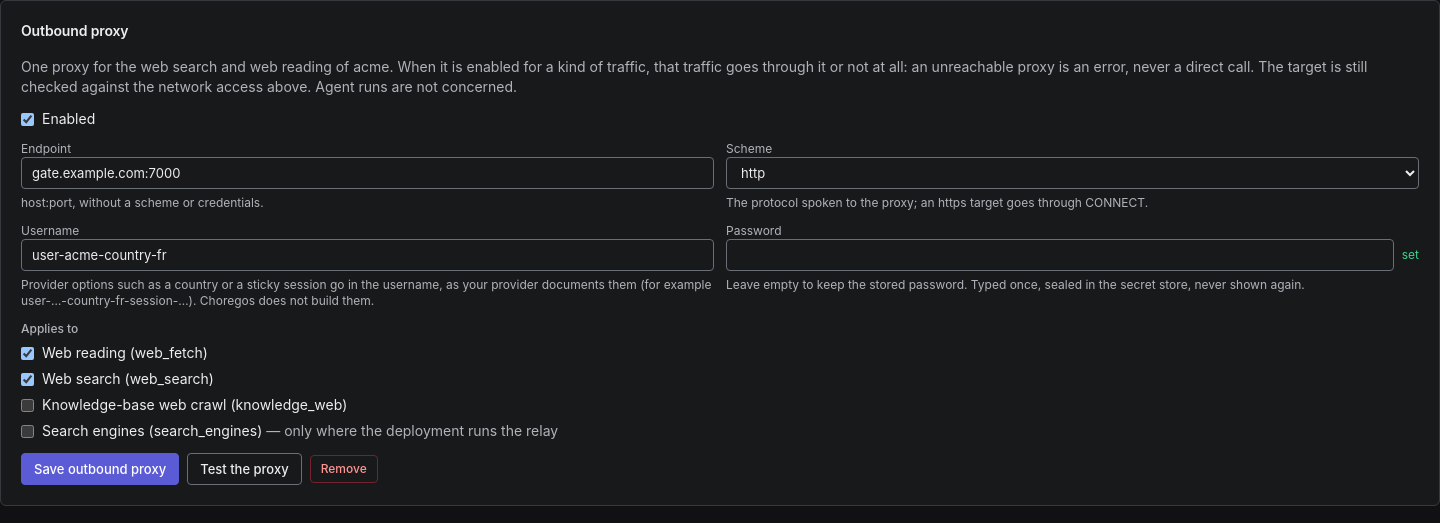
Scenario: the organisation's outbound proxy (ADR 0087) › flags a bad endpoint and keeps Save disabled until it is host:port
Type "https://gate.example.com:7000" into the field labelled "Endpoint". click: x=368, y=173
box: [21, 157, 714, 189]
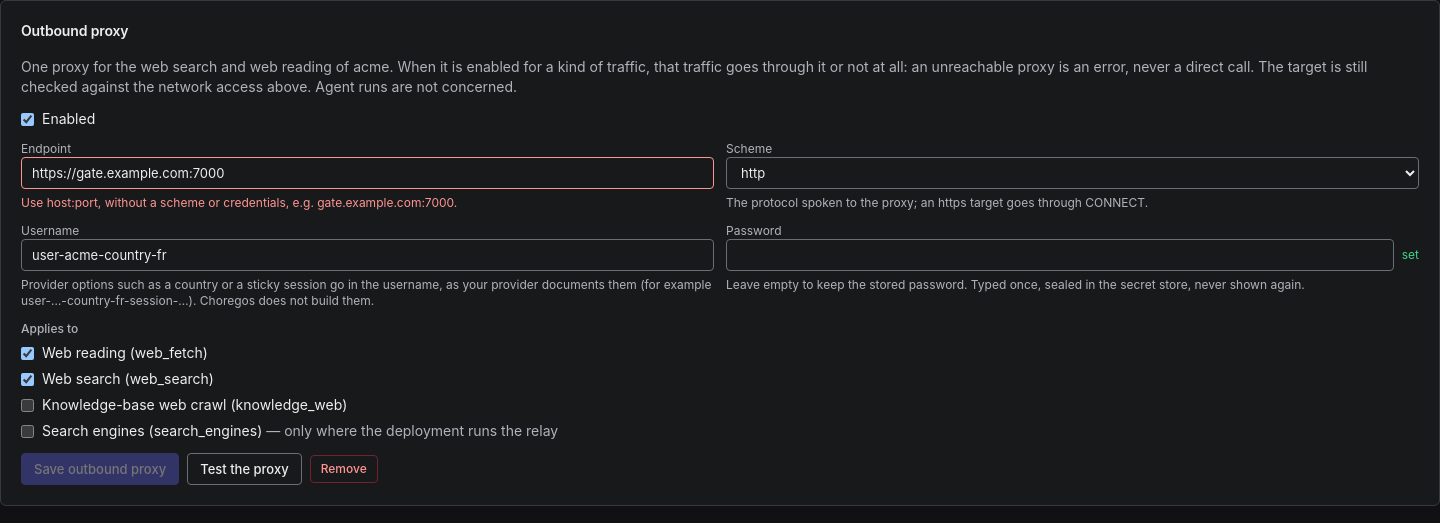
Result: the button "Save outbound proxy" is disabled at [21, 453, 179, 485]
Replace the text in the field labelled "Endpoint" with "user:pw@gate.example.com:7000". click: x=368, y=173
box: [21, 157, 714, 189]
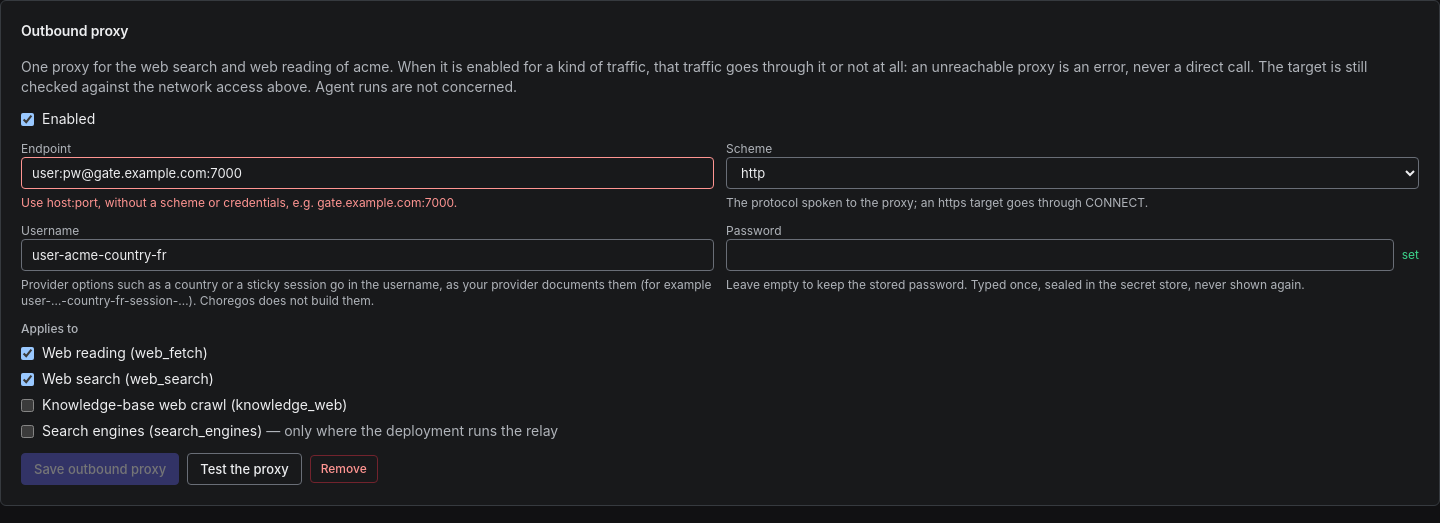
Result: the button "Save outbound proxy" is disabled at [21, 453, 179, 485]
Replace the text in the field labelled "Endpoint" with "gate.example.com". click: x=368, y=173
box: [21, 157, 714, 189]
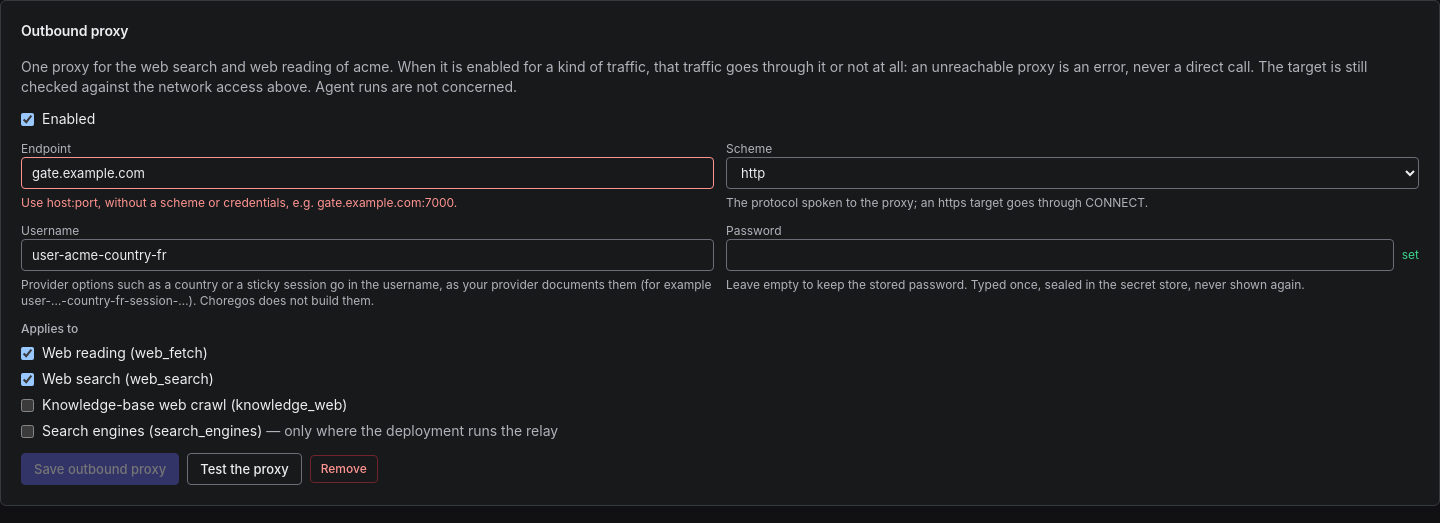
Result: the button "Save outbound proxy" is disabled at [21, 453, 179, 485]
Replace the text in the field labelled "Endpoint" with "gate.example.com:70000". click: x=368, y=173
box: [21, 157, 714, 189]
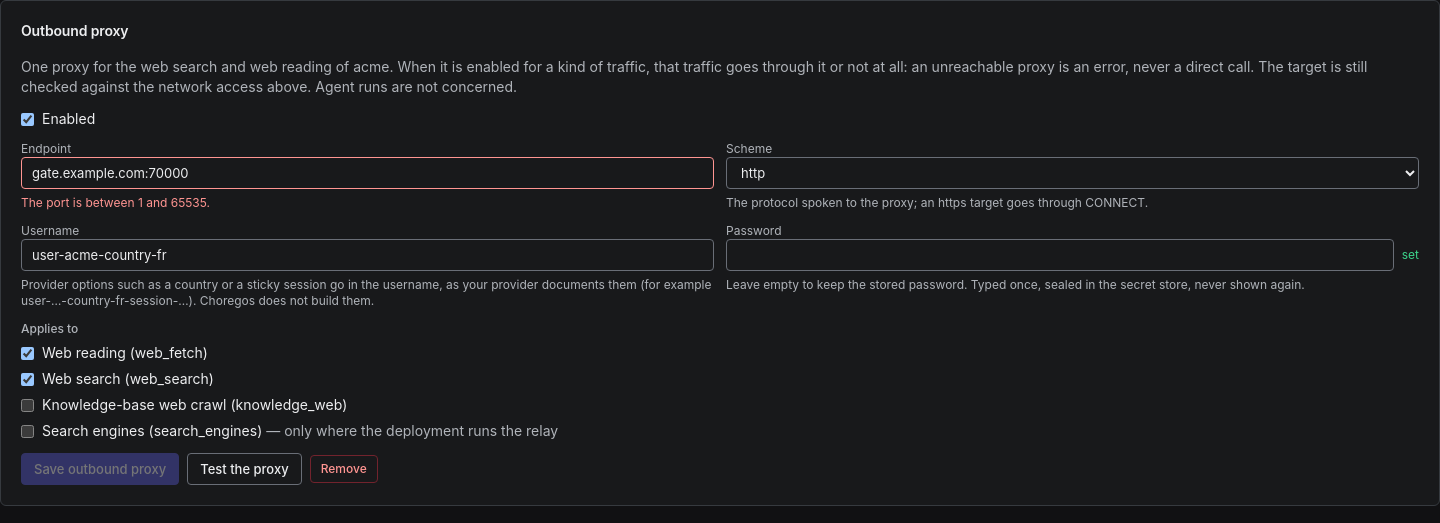
Expected: the text "The port is between 1 and 65535." is shown, [21, 195, 210, 210]
Result: the button "Save outbound proxy" is disabled at [21, 453, 179, 485]
Replace the text in the field labelled "Endpoint" with "gate.example.com:7000". click: x=368, y=173
box: [21, 157, 714, 189]
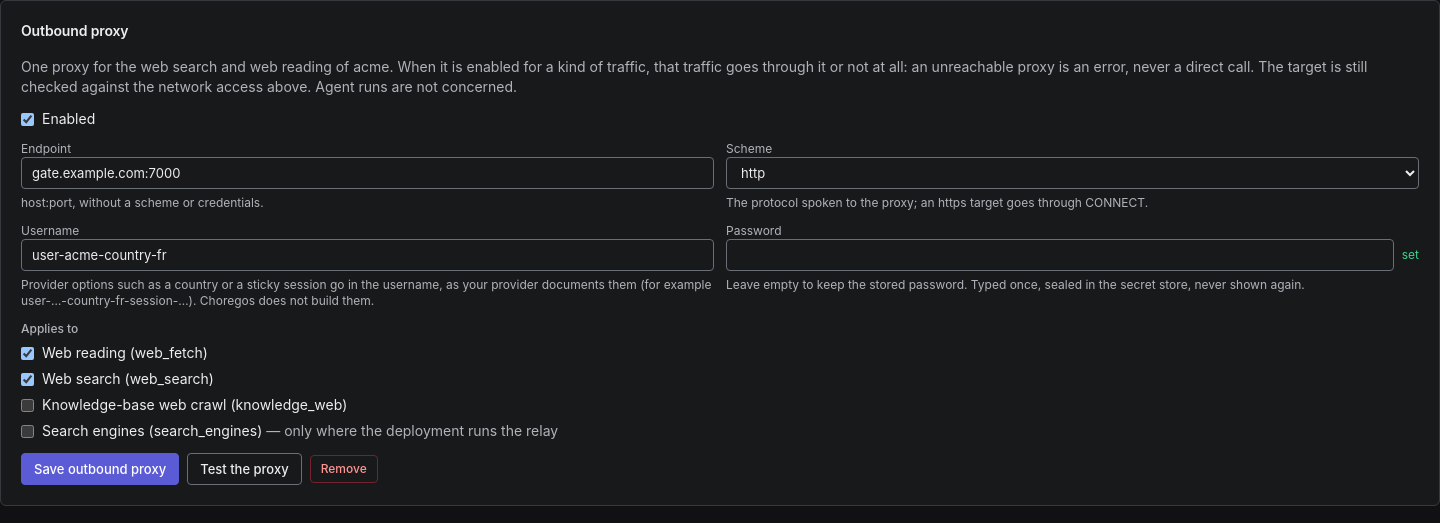
Result: the button "Save outbound proxy" is enabled at [21, 453, 179, 485]
